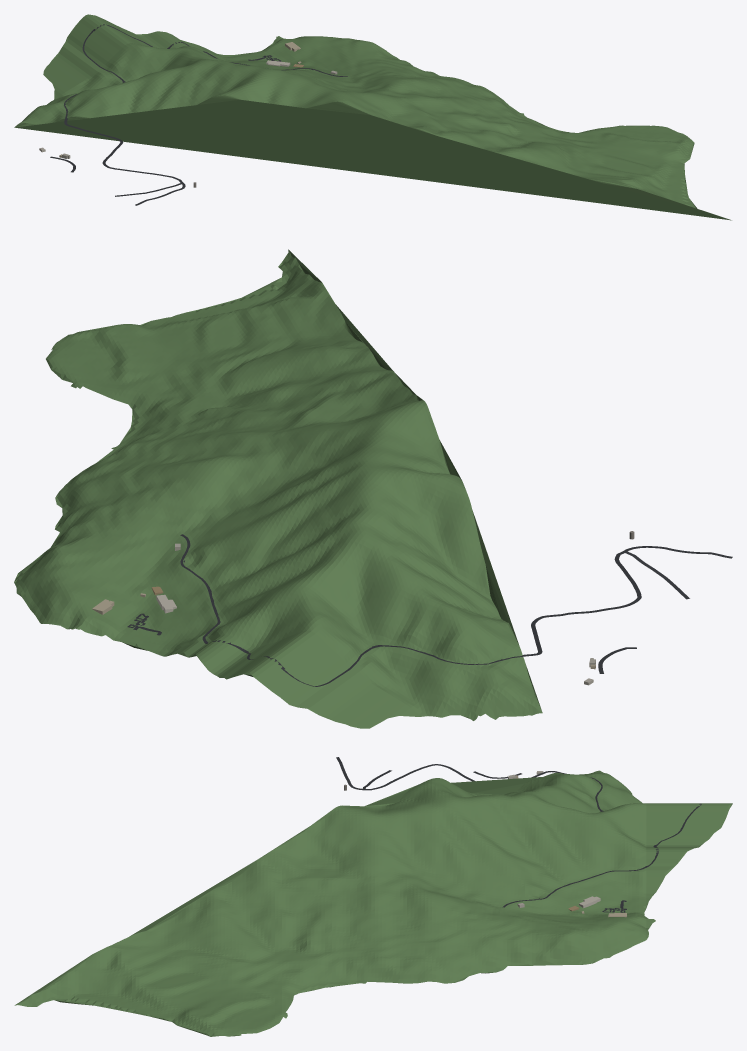
The model's file is tile_10_0.glb.
3 renders of one model, top to bottom at view 1: azimuth 30°, elevation 25°; view 2: azimuth 150°, elevation 25°; view 3: azimuth 270°, elevation 25°, orthographic. The views are drawn at different scales.
Visible parts, largest first — view 1: grn_10_0, road_10_0, bld_10_0; view 2: grn_10_0, road_10_0, bld_10_0; view 3: grn_10_0, road_10_0.
Boxes of the visible parts, x1,y1,x2,y2 form: grn_10_0: (14,14,731,220); road_10_0: (50,24,347,205); bld_10_0: (39,42,337,187); grn_10_0: (14,249,542,728); road_10_0: (127,534,732,686); bld_10_0: (92,531,634,685); grn_10_0: (14,770,732,1036); road_10_0: (336,757,701,912).
Size of the model in its own units: 1393 by 187 by 1611.
